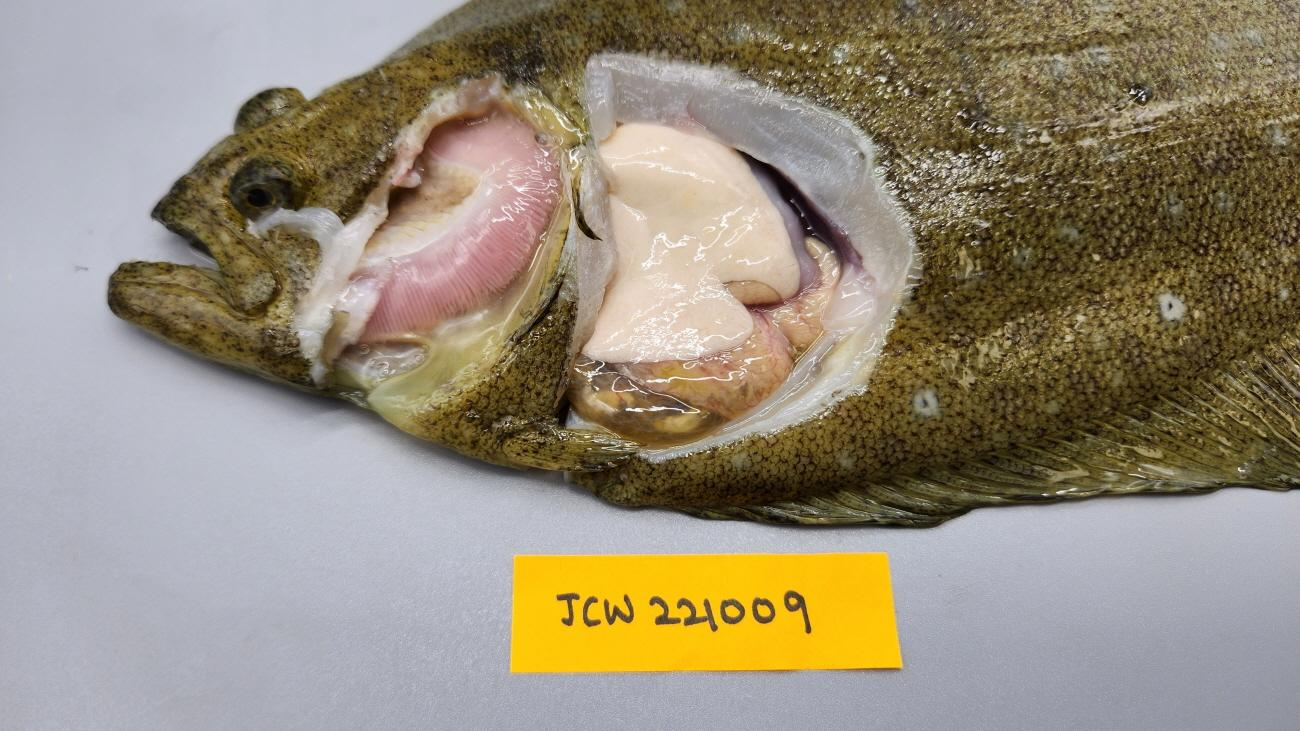POGIN: (363, 112, 560, 338)
POLIN: (577, 120, 800, 363)
